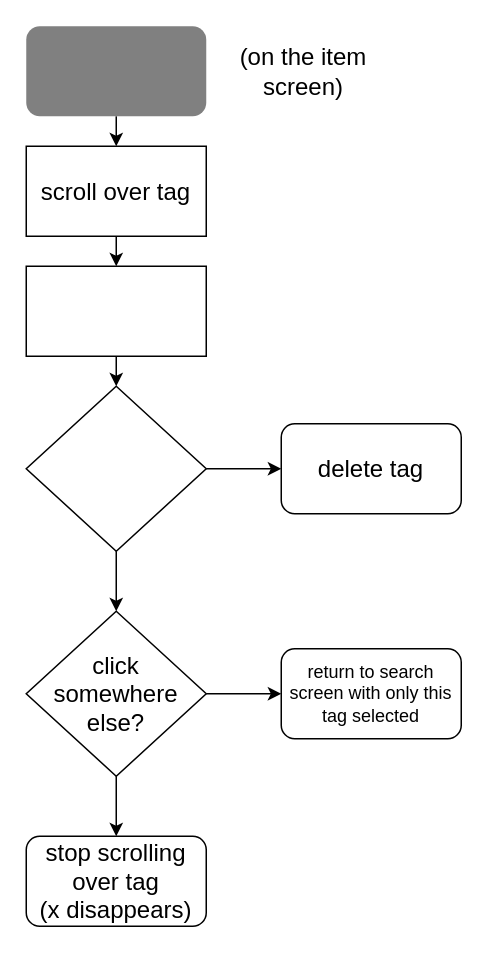
Some shapes in this 488 by 953 pixel diagram are drawn without their labels. The shapes that lost their labels are listed below. From the top down, each one's centre as x and y in pixels, then its label:
the point at 116,71: tag
the point at 115,310: X appears on right of tag
the point at 115,468: press the X?
